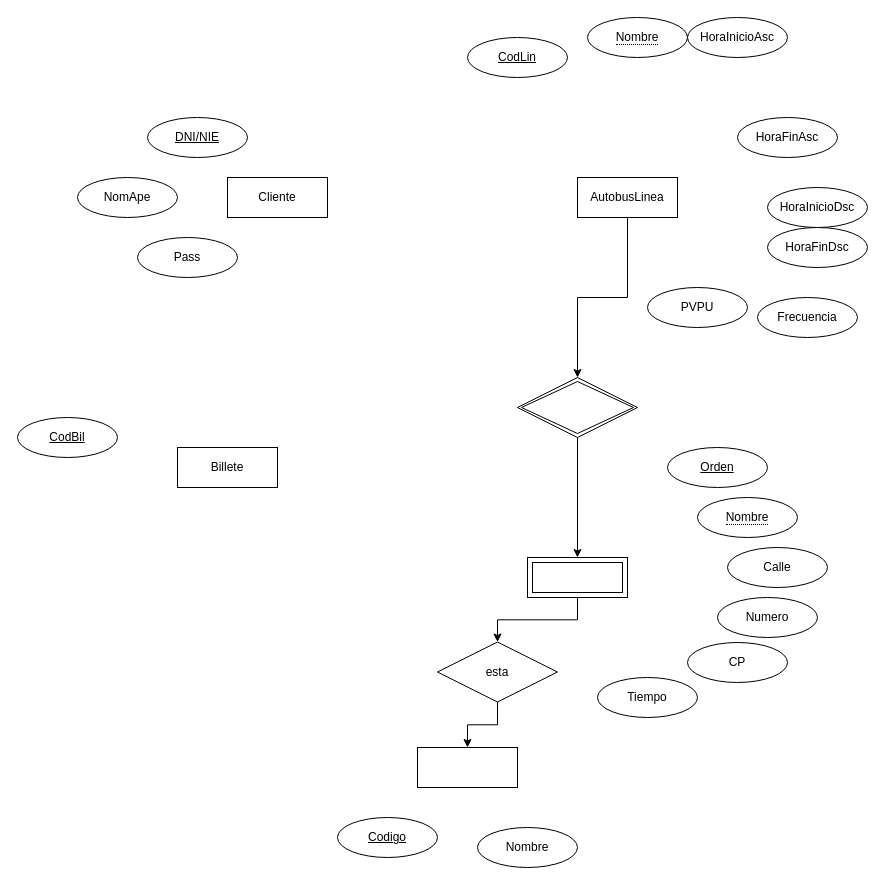
Image size: 885x885. Some labels were removed from this diagram. The shapes that lost their labels are listed below. From the top down, each one's centre as x and y in pixels, then its label:
At [577,407]: "ID tiene".
At [577,577]: "Parada".
At [467,767]: "Municio".
